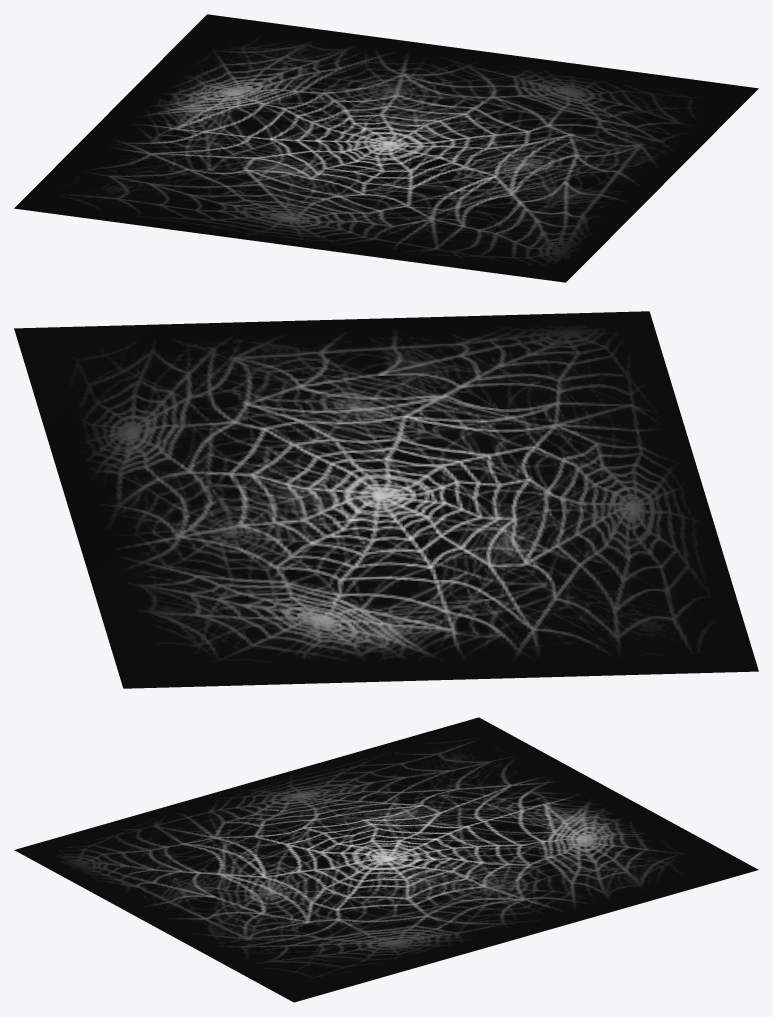
File: MIRKWOOD_PLANE45.fbx
The picture shows the model from 3 angles, top to bottom: view 1: azimuth 30°, elevation 25°; view 2: azimuth 150°, elevation 25°; view 3: azimuth 270°, elevation 25°; orthographic projection. The views are drawn at different scales.
Visible parts, largest first — view 1: MIRKWOOD_PLANE45; view 2: MIRKWOOD_PLANE45; view 3: MIRKWOOD_PLANE45.
Part boxes in pixels (bbox=[...]): MIRKWOOD_PLANE45: bbox=[14, 14, 758, 282]; MIRKWOOD_PLANE45: bbox=[14, 311, 758, 688]; MIRKWOOD_PLANE45: bbox=[14, 717, 758, 1002].
Bounding box in the file's own units: 147034 × 6393 × 147162.
1 material, 1 textured.
